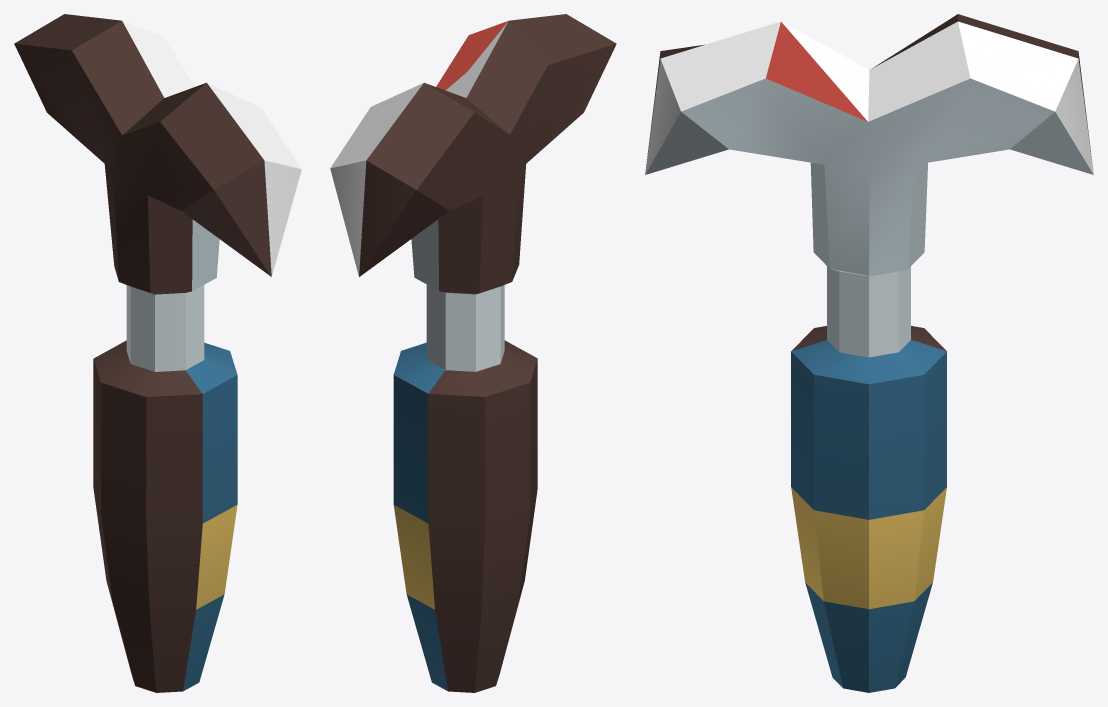
File: player bullets.fbx
3 views of the same model, side by side, from view 1: azimuth 30°, elevation 25°; view 2: azimuth 150°, elevation 25°; view 3: azimuth 270°, elevation 25° (orthographic). The views are drawn at different scales.
Parts seen in each view (by area): view 1: Cylinder.001; view 2: Cylinder.001; view 3: Cylinder.001.
Part boxes in pixels (x1,y1,x2,y2): Cylinder.001: (14, 14, 301, 692); Cylinder.001: (330, 14, 616, 692); Cylinder.001: (645, 14, 1093, 692).
Bounding box in the file's own units: 27.83 × 129 × 80.09.
